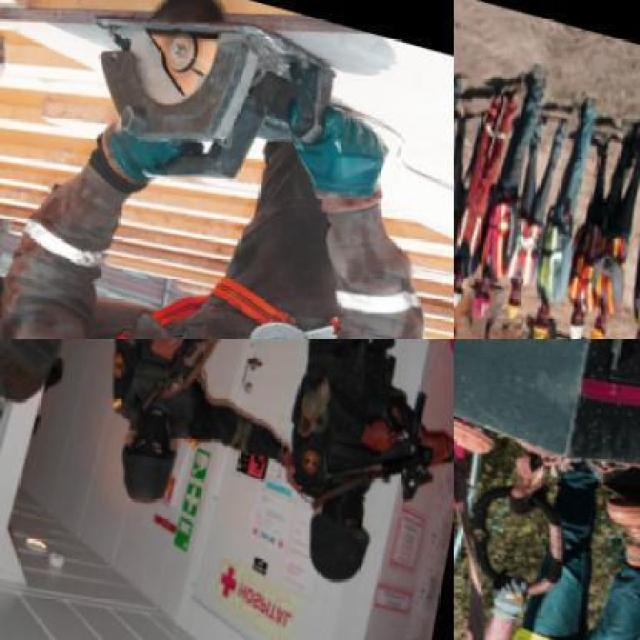helmet: (463, 295, 495, 321), (525, 319, 557, 342), (566, 322, 590, 342), (502, 306, 524, 324), (592, 322, 612, 338)
